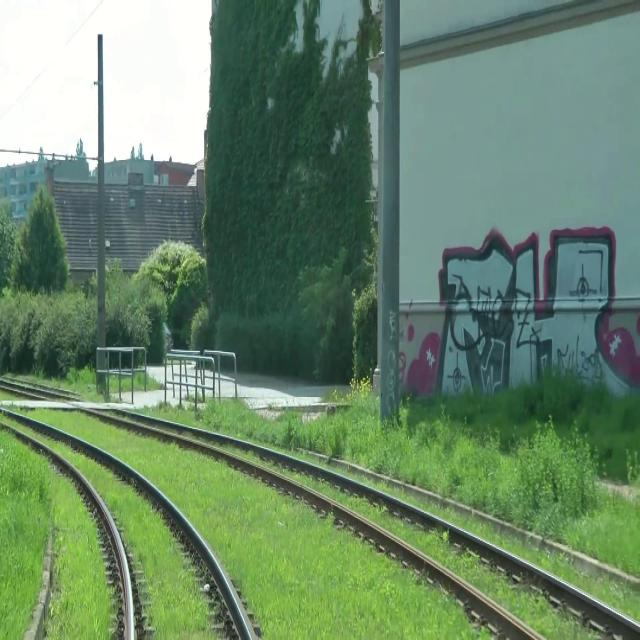rail-track: (107, 410, 640, 639), (0, 411, 251, 639)
